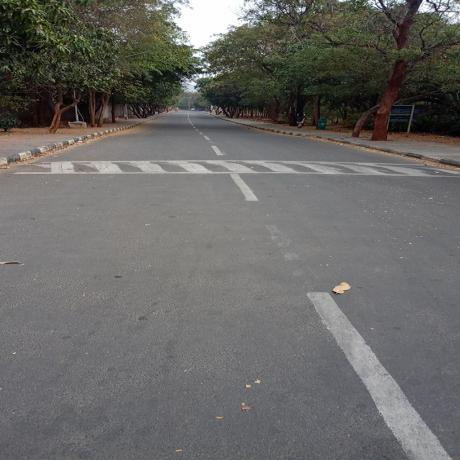Speed Bump: (9, 160, 459, 180)
